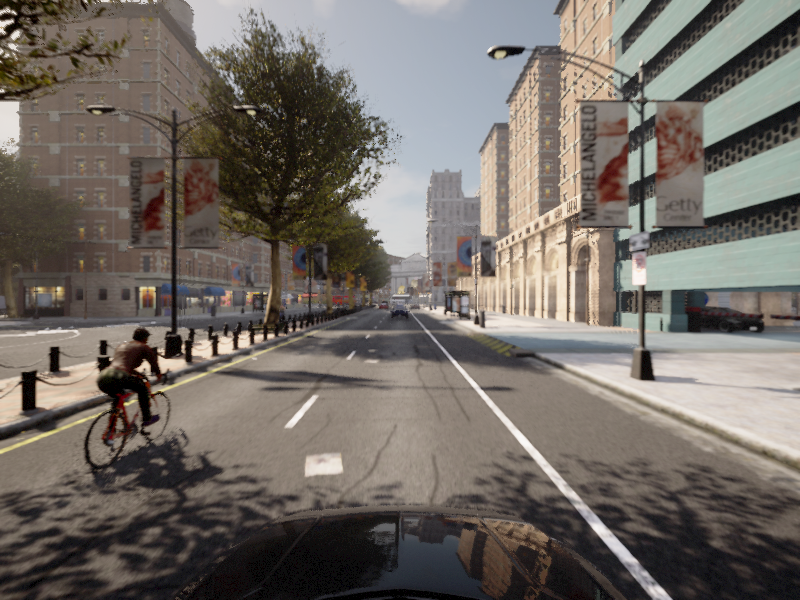vehicle: (57, 325, 189, 480), (274, 303, 288, 320), (391, 305, 408, 318)
